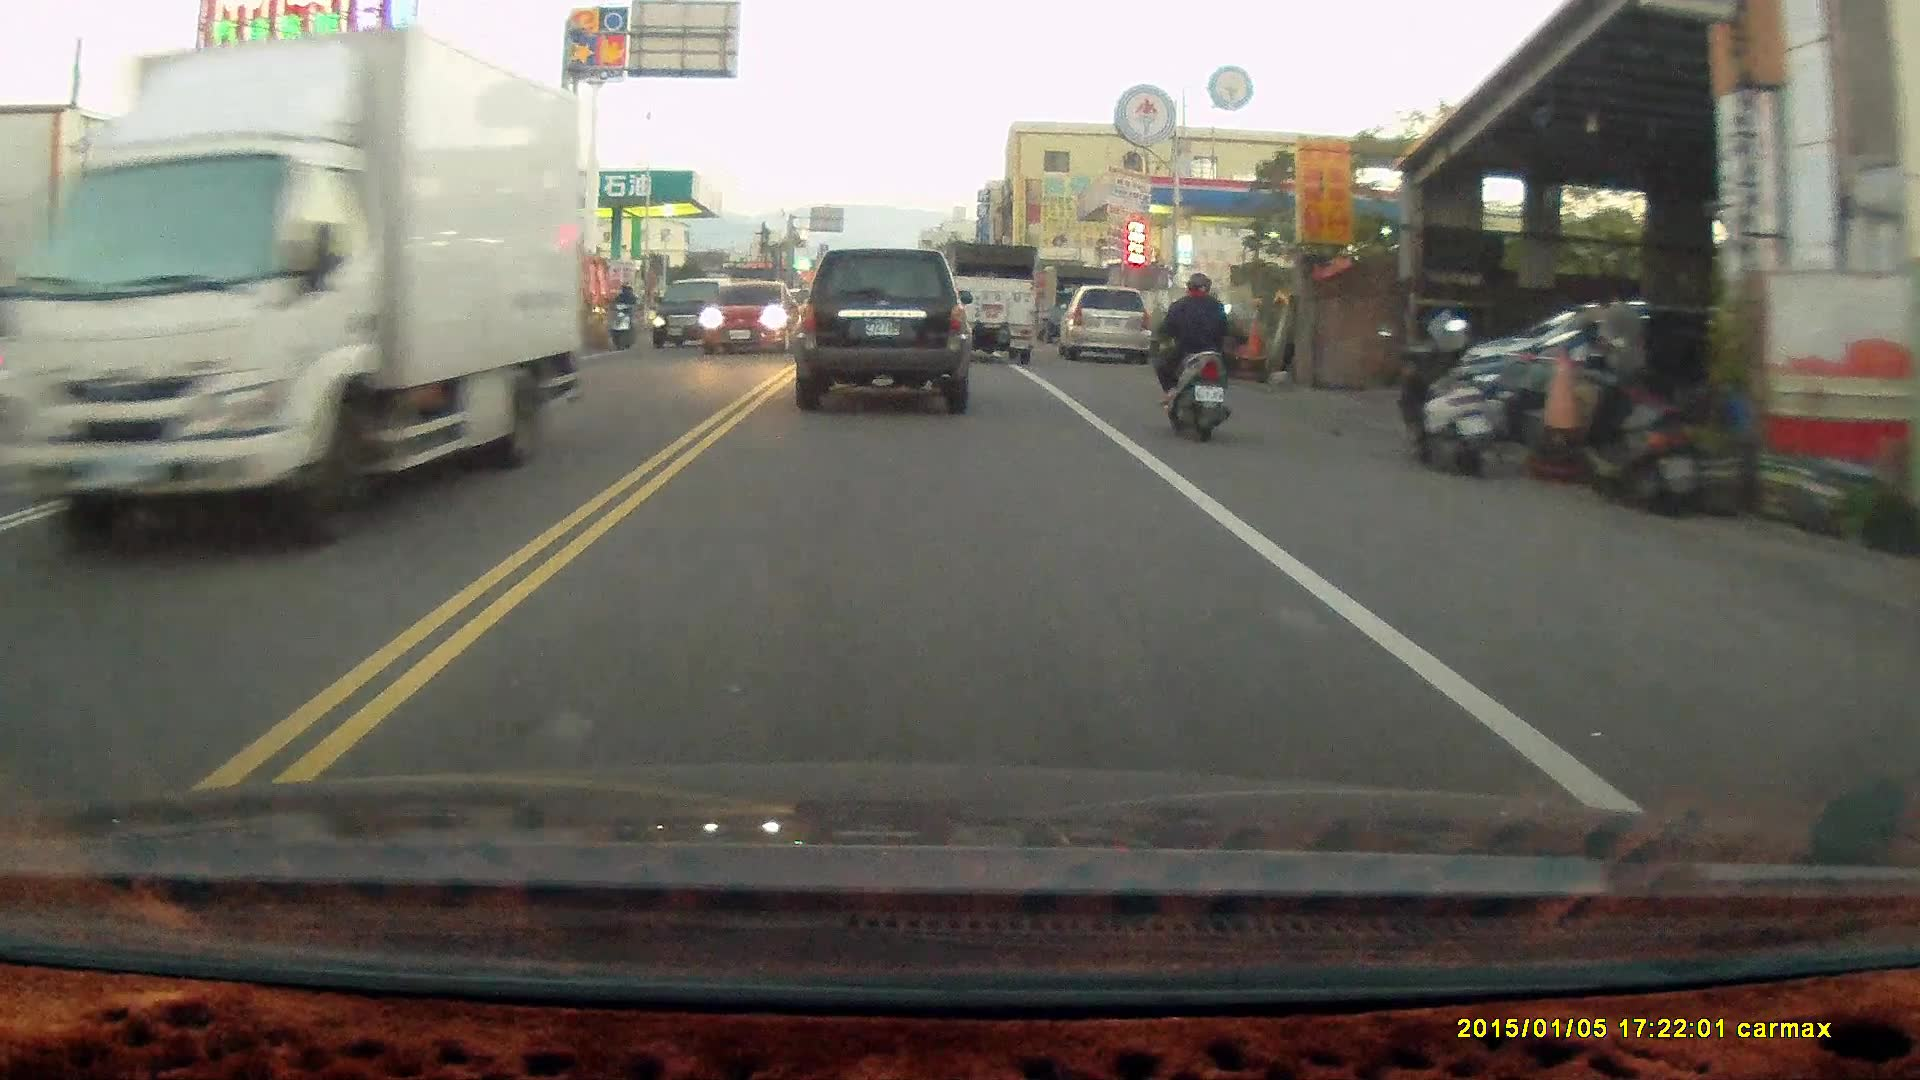pedestrian: (1599, 281, 1651, 427)
rider: (1148, 269, 1238, 443), (605, 278, 640, 348)
vehicle: (1, 47, 580, 553), (789, 245, 973, 415), (946, 238, 1039, 363), (698, 283, 804, 356), (1062, 284, 1150, 365), (651, 276, 743, 350)
